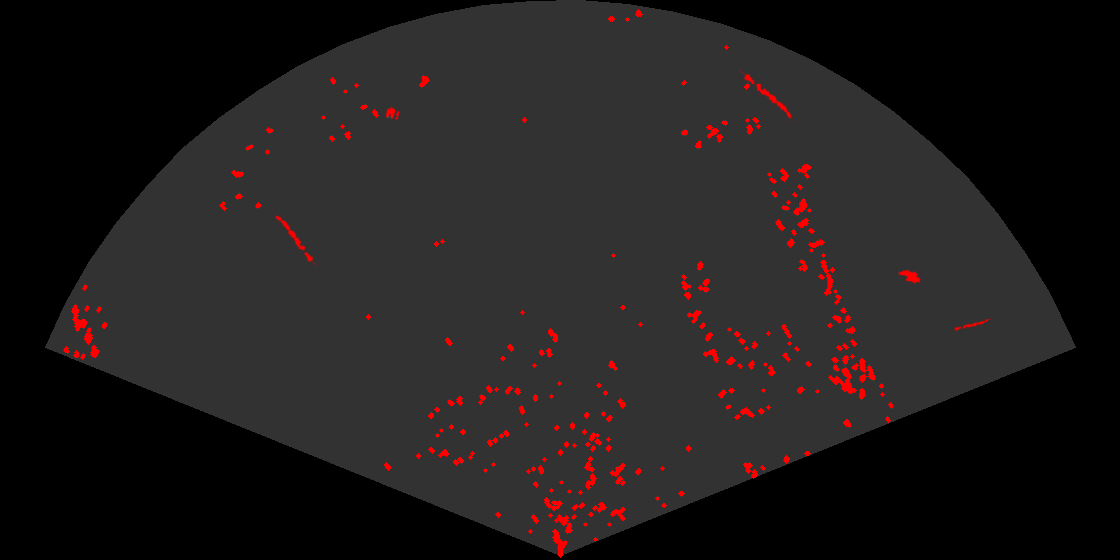AUV: (897, 268, 922, 285)
ball: (384, 105, 401, 122)
chain: (739, 67, 798, 122), (272, 208, 318, 266), (954, 317, 991, 333)
